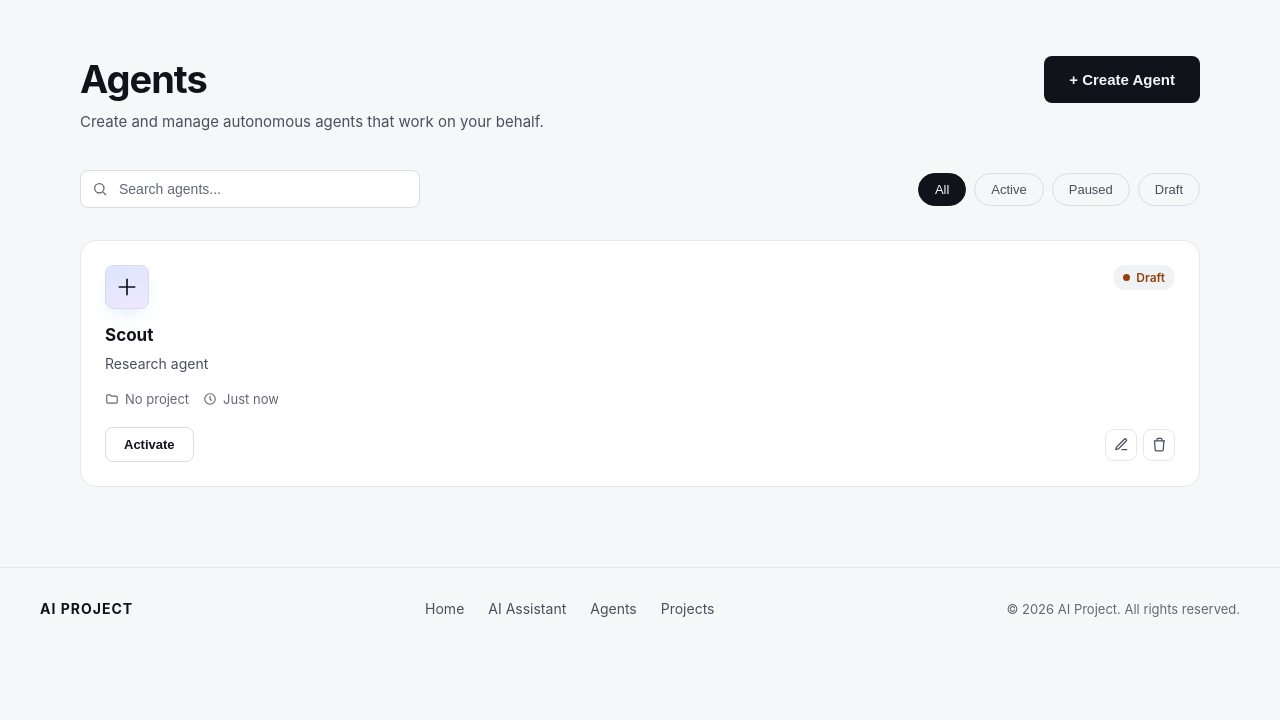
Test: Agents — mutations › updates an agent and reflects the change in the cached list
This screenshot has width=1280, height=720.
Check: the heading "Scout" is shown, box x1=105 y1=325 x2=153 y2=345
Click the button named "Edit Scout": (1121, 445) x1=1105 y1=429 x2=1137 y2=461
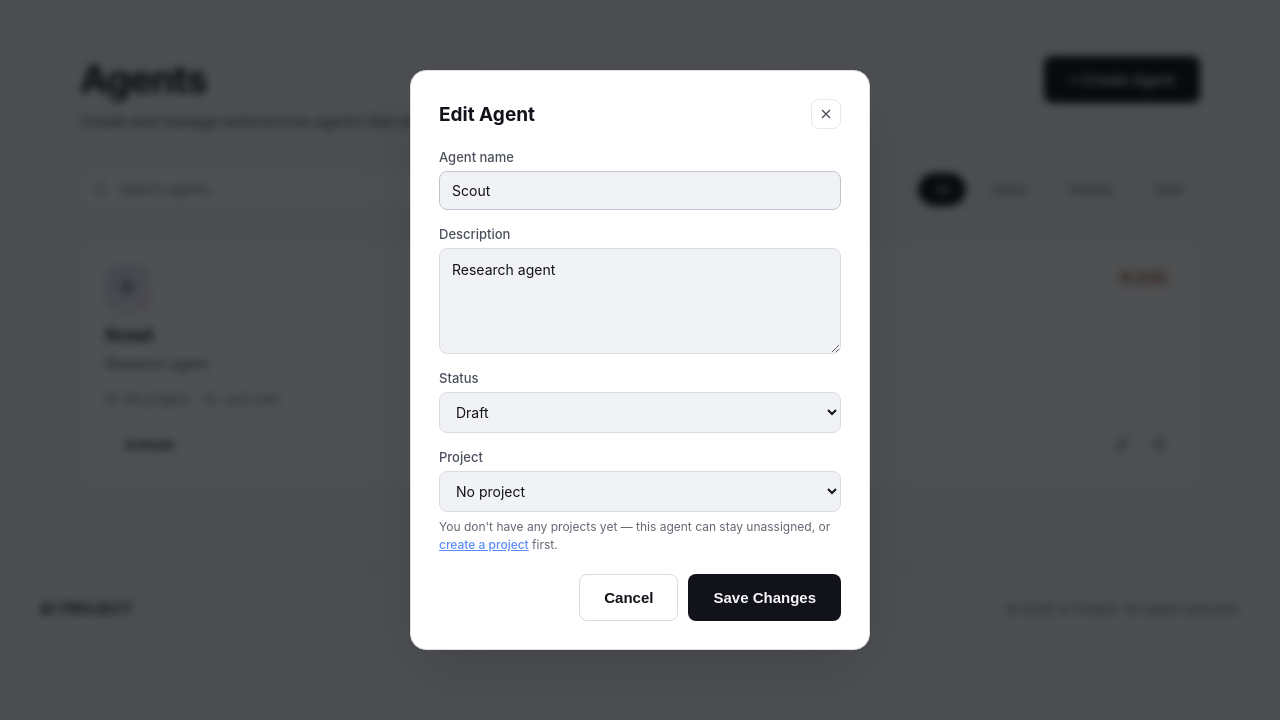
Replace the text in the field labelled "Agent name" with "Scout Updated": (640, 190) x1=439 y1=171 x2=841 y2=210
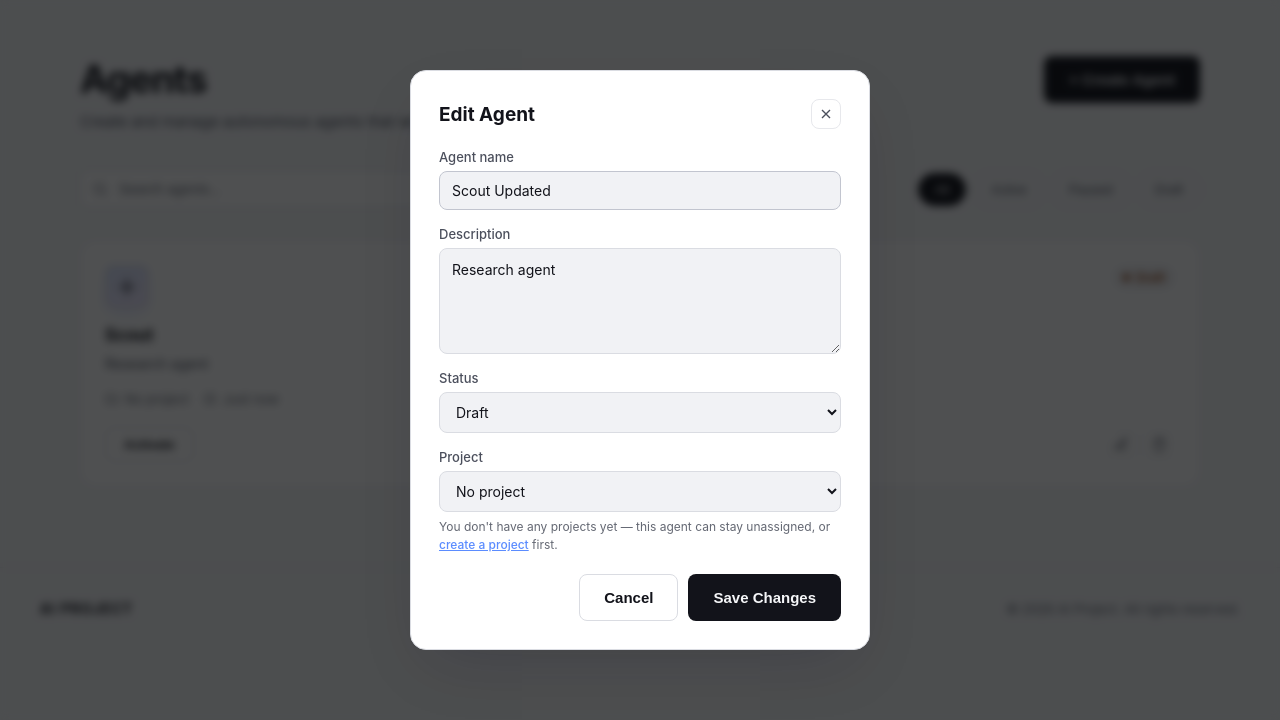
Click the button "Save Changes": (765, 598) x1=688 y1=574 x2=841 y2=621
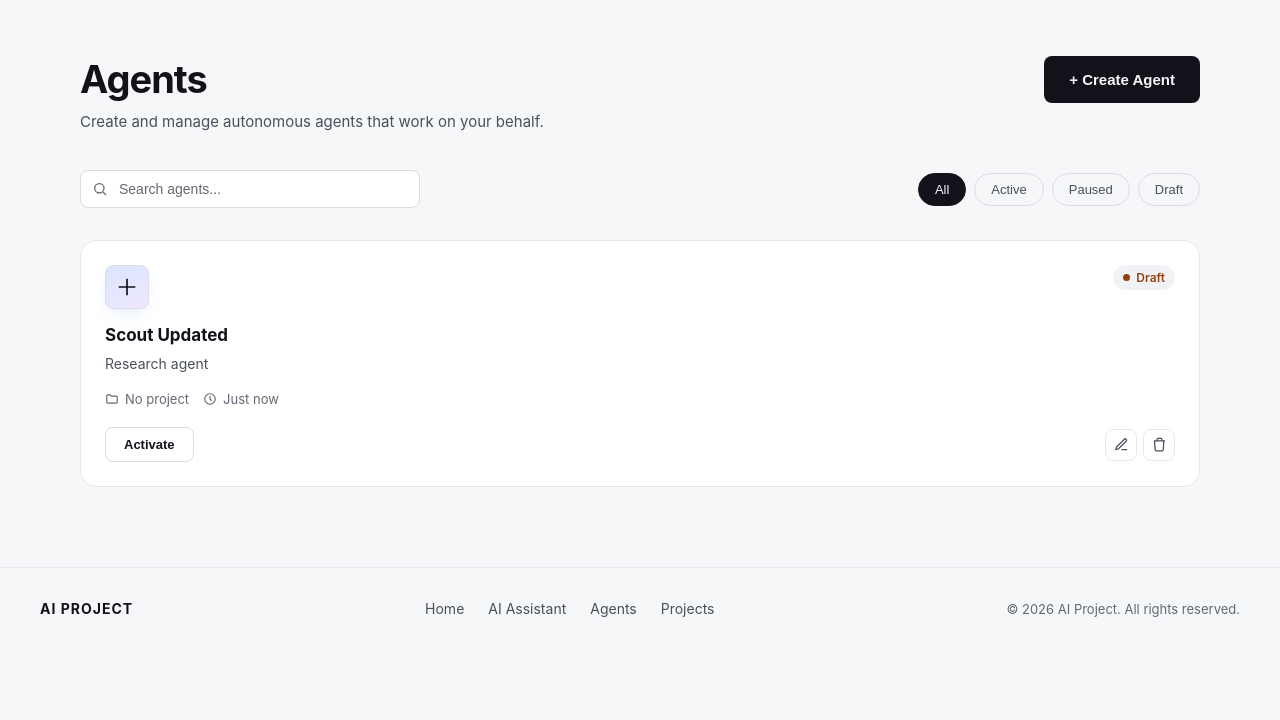
Check: the heading "Scout Updated" is shown, box x1=105 y1=325 x2=228 y2=345
Check: the dialog is gone
